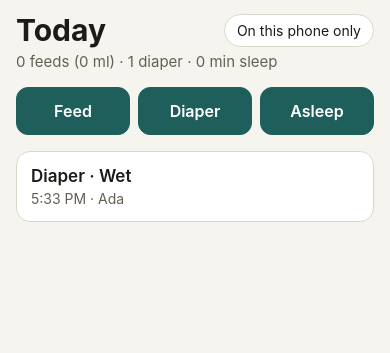
Test: the note is one op, saved on Done
This screenshot has width=390, height=353.
Click the button "Diaper · Wet 5:33 PM · Ada": x=81, y=176 top-left (16, 151), bottom-right (374, 222)
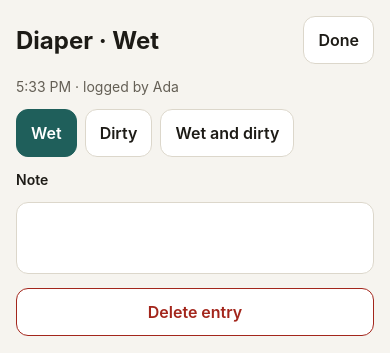
# changeText, not user.type: pressing Done on a phone does not blur the field first.
In the text box named "Note": x=195, y=238 top-left (16, 202), bottom-right (374, 274), type "rash cream used"
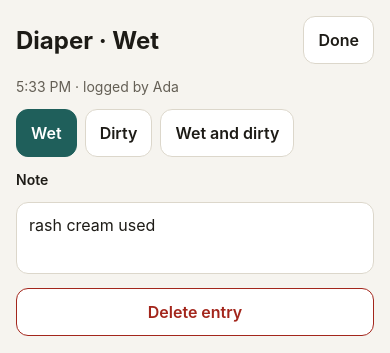
Click the button "Done": x=339, y=40 top-left (304, 16), bottom-right (374, 64)
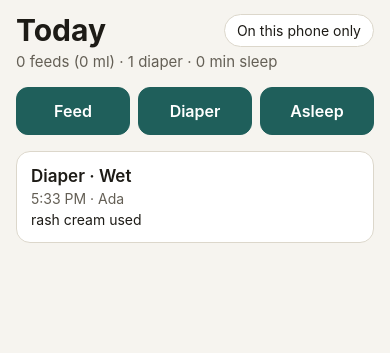
Expected: the text "rash cream used" is shown, top-left (31, 211), bottom-right (142, 228)
